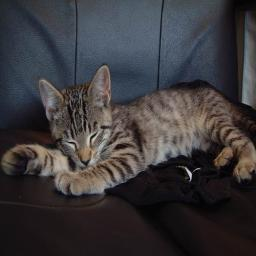catnose: (80, 159, 92, 168)
